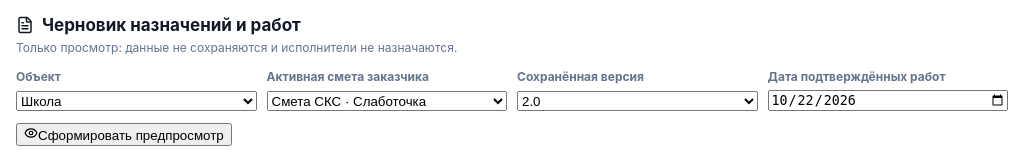
Test: AssignmentDailyDraftPreviewPanel › never renders a stale preview after the selected date changes
Step 1. Type "2026-08-21" into the date field labelled "Дата подтверждённых работ" → (888, 101), box [768, 90, 1008, 111]
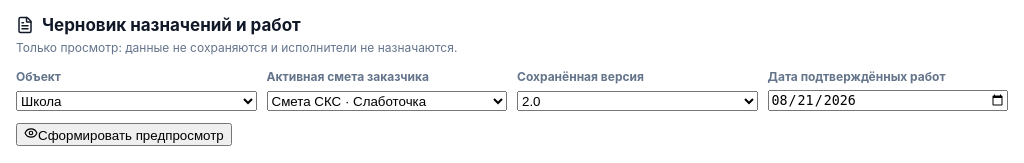
Step 2. Click the button "Сформировать предпросмотр" → (124, 135), box [16, 123, 232, 146]
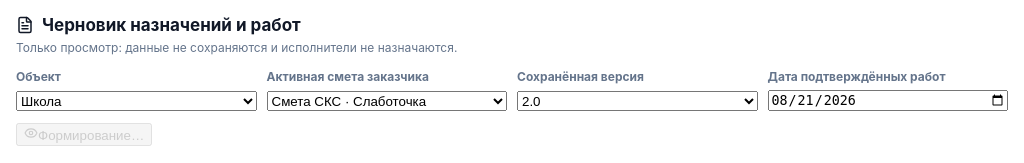
Step 3. Type "2026-08-22" into the date field labelled "Дата подтверждённых работ" → (888, 101), box [768, 90, 1008, 111]
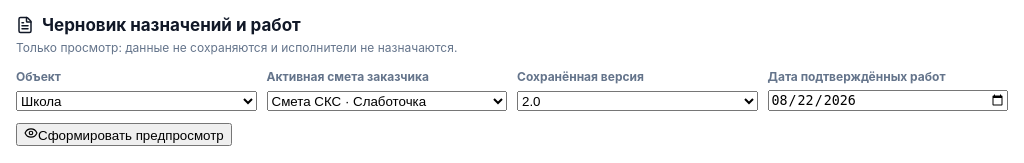
Expected: the button "Сформировать предпросмотр" is shown, [16, 123, 232, 146]
